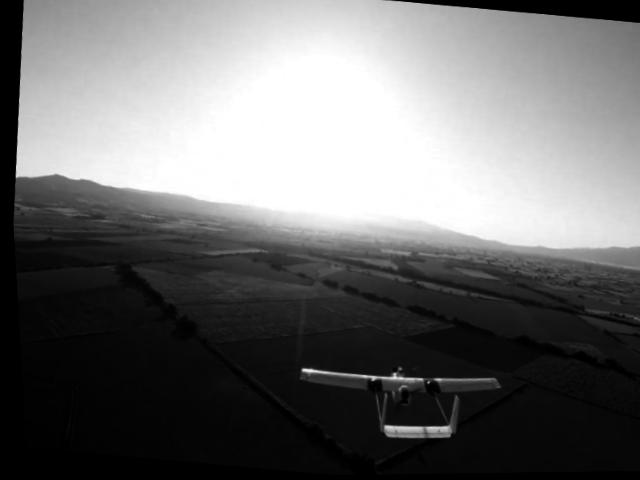hedef: (279, 348, 509, 455)
